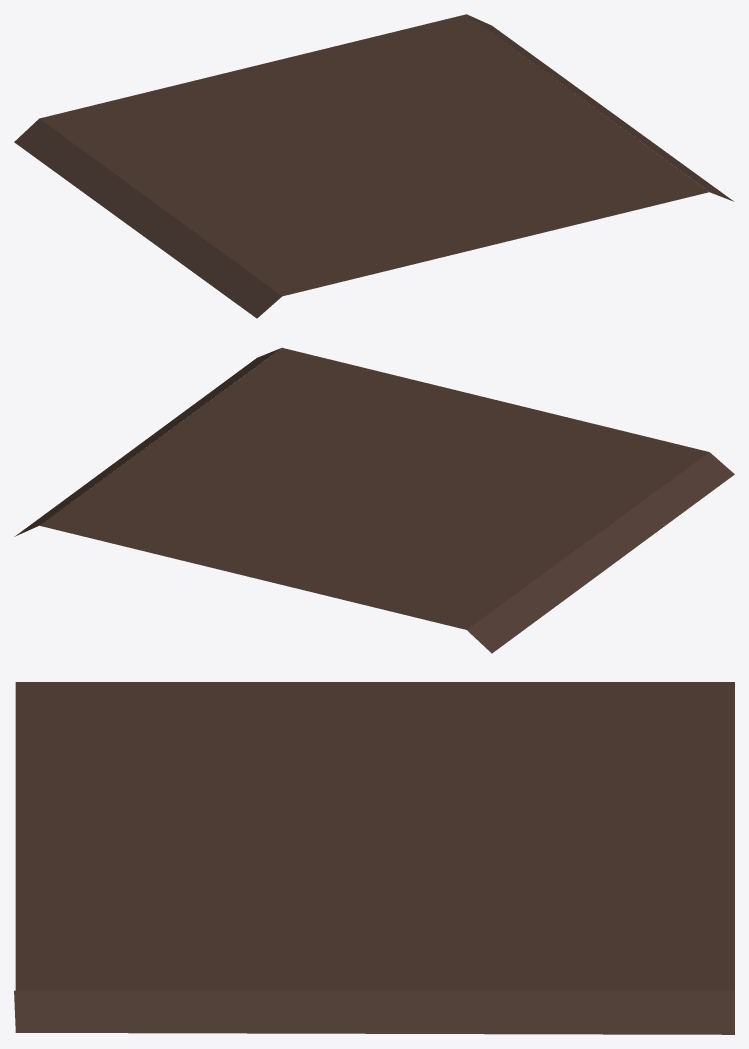
File: Clock part #2.fbx
The picture shows the model from 3 angles, top to bottom: view 1: azimuth 30°, elevation 25°; view 2: azimuth 150°, elevation 25°; view 3: azimuth 270°, elevation 25°; orthographic projection. The views are drawn at different scales.
Visible parts, largest first — view 1: Clock Model.001; view 2: Clock Model.001; view 3: Clock Model.001.
Boxes of the visible parts, x1,y1,x2,y2 form: Clock Model.001: (14,14,733,318); Clock Model.001: (14,347,734,653); Clock Model.001: (14,682,734,1034).
Size of the model in its own units: 110 by 3.85 by 96.71.
